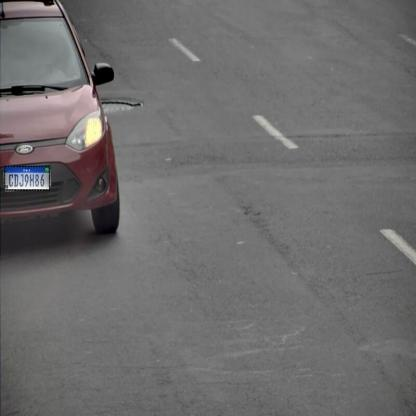PlacaM: (4, 166, 50, 190)
